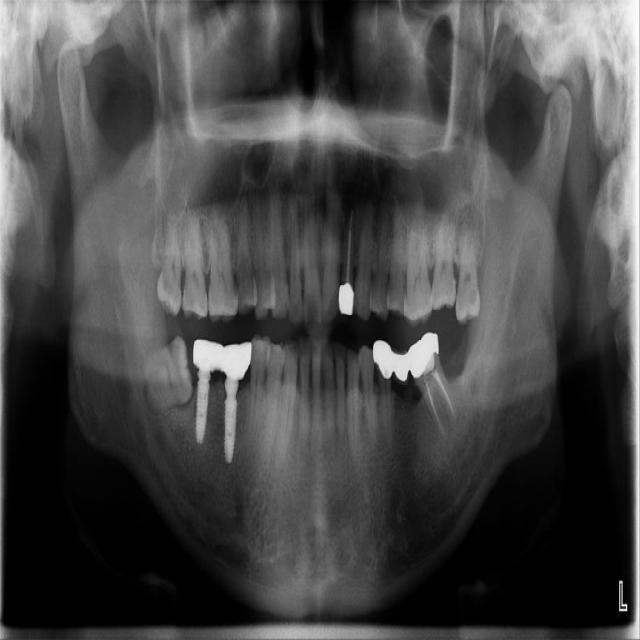3M ESPE Implant: (157, 202, 181, 320)
52: (371, 331, 444, 385), (191, 337, 252, 381), (338, 283, 354, 316)
73: (408, 352, 469, 451), (341, 197, 357, 292), (618, 617, 626, 631)
BioHorizons Implant: (430, 192, 460, 313)
BioLife Implant: (455, 200, 485, 326)
Caries: (181, 200, 210, 321)
Keystone Dental Implant: (136, 333, 198, 418)
